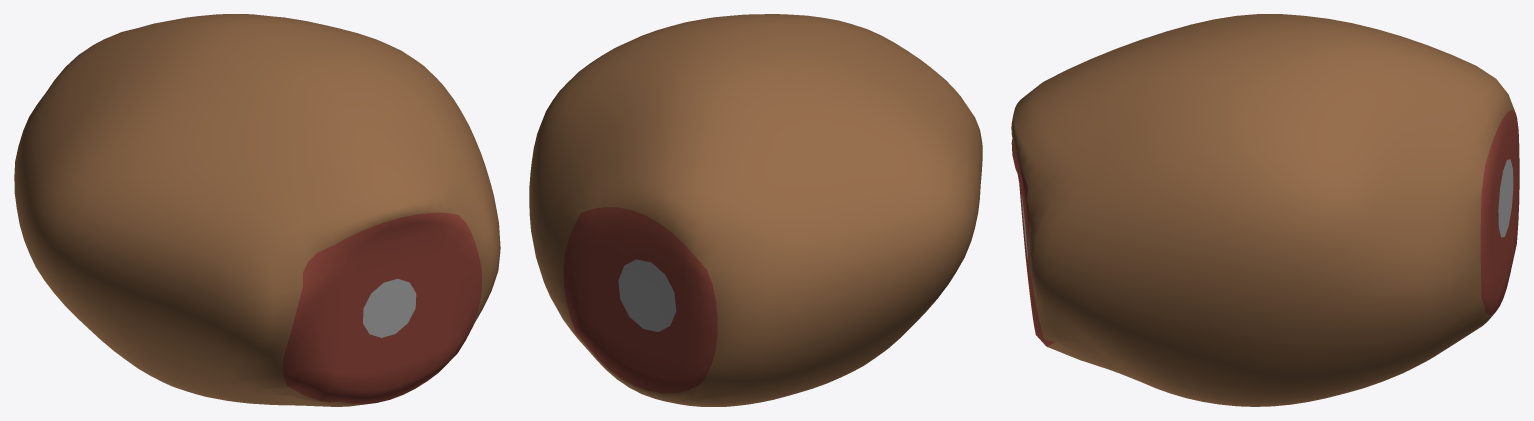
The model's file is Meat.fbx.
The picture shows the model from 3 angles, left to right: view 1: azimuth 30°, elevation 25°; view 2: azimuth 150°, elevation 25°; view 3: azimuth 270°, elevation 25°; orthographic projection. The views are drawn at different scales.
Parts seen in each view (by area): view 1: pCube1; view 2: pCube1; view 3: pCube1.
Boxes of the visible parts, x1,y1,x2,y2 form: pCube1: (14, 14, 500, 406); pCube1: (529, 14, 982, 406); pCube1: (1011, 14, 1519, 406).
Size of the model in its own units: 16.17 by 11.87 by 16.89.
